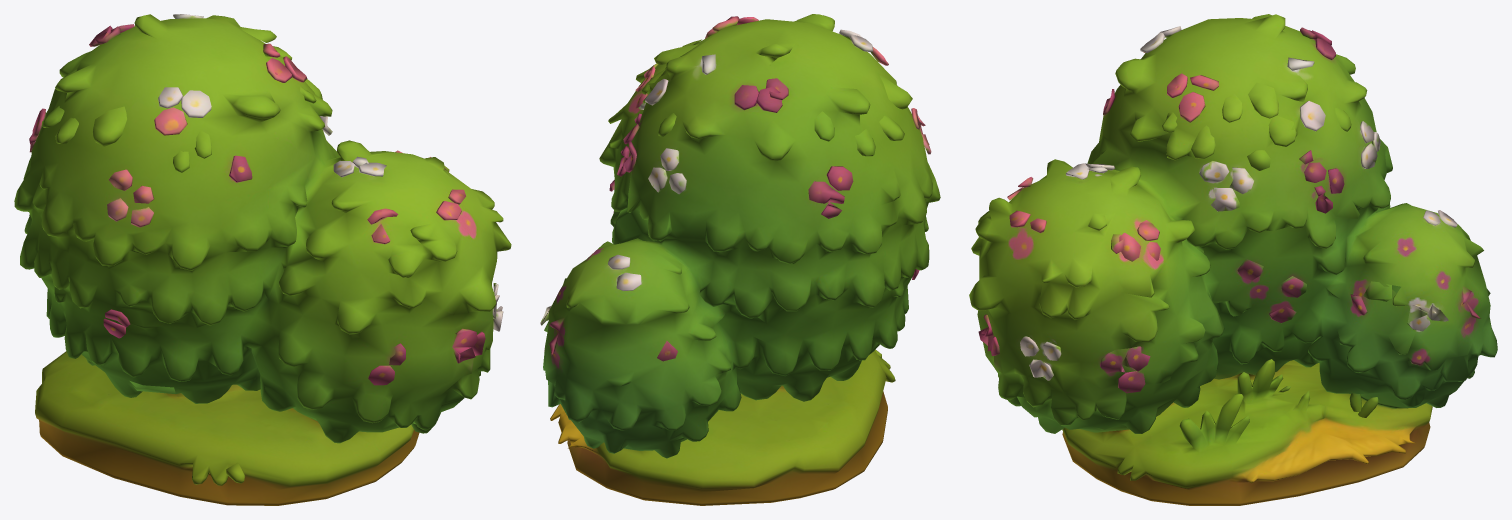
Rendered from tripo_raw.glb.
3 views of the same model, side by side, from view 1: azimuth 30°, elevation 25°; view 2: azimuth 150°, elevation 25°; view 3: azimuth 270°, elevation 25° (orthographic). The views are drawn at different scales.
Parts seen in each view (by area): view 1: tripo_node_a4664af3-09f2-404d-a817-6f89c062eeb5; view 2: tripo_node_a4664af3-09f2-404d-a817-6f89c062eeb5; view 3: tripo_node_a4664af3-09f2-404d-a817-6f89c062eeb5.
Boxes of the visible parts, <box> form: tripo_node_a4664af3-09f2-404d-a817-6f89c062eeb5: <box>14,14,511,505</box>; tripo_node_a4664af3-09f2-404d-a817-6f89c062eeb5: <box>540,14,940,505</box>; tripo_node_a4664af3-09f2-404d-a817-6f89c062eeb5: <box>969,14,1497,505</box>.
Bounding box in the file's own units: 0.7613 × 0.818 × 0.998.
1 material, 1 textured.
